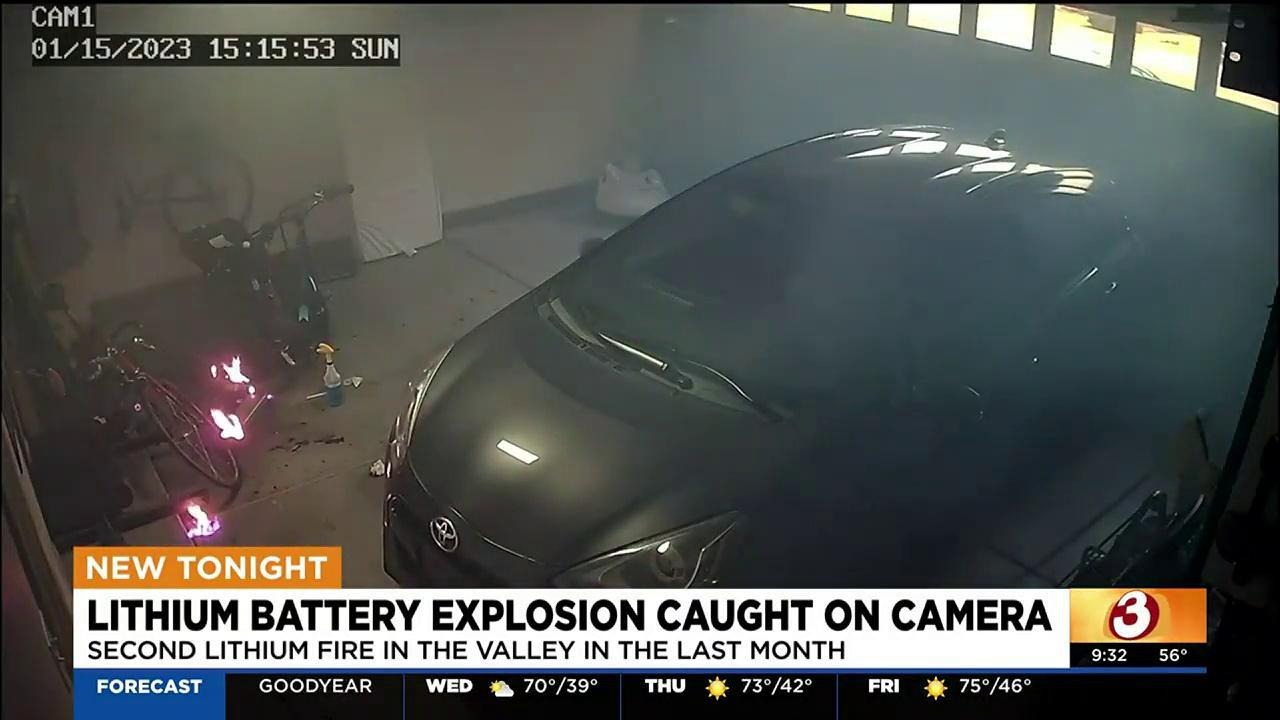fire: (128, 332, 331, 553)
